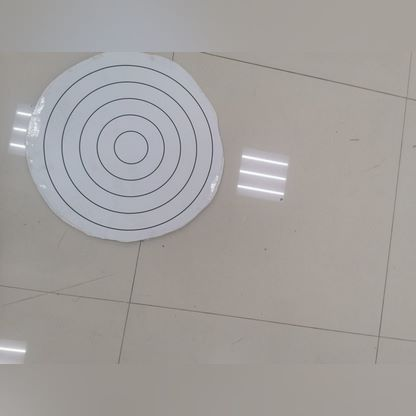circle: (34, 59, 219, 230)
